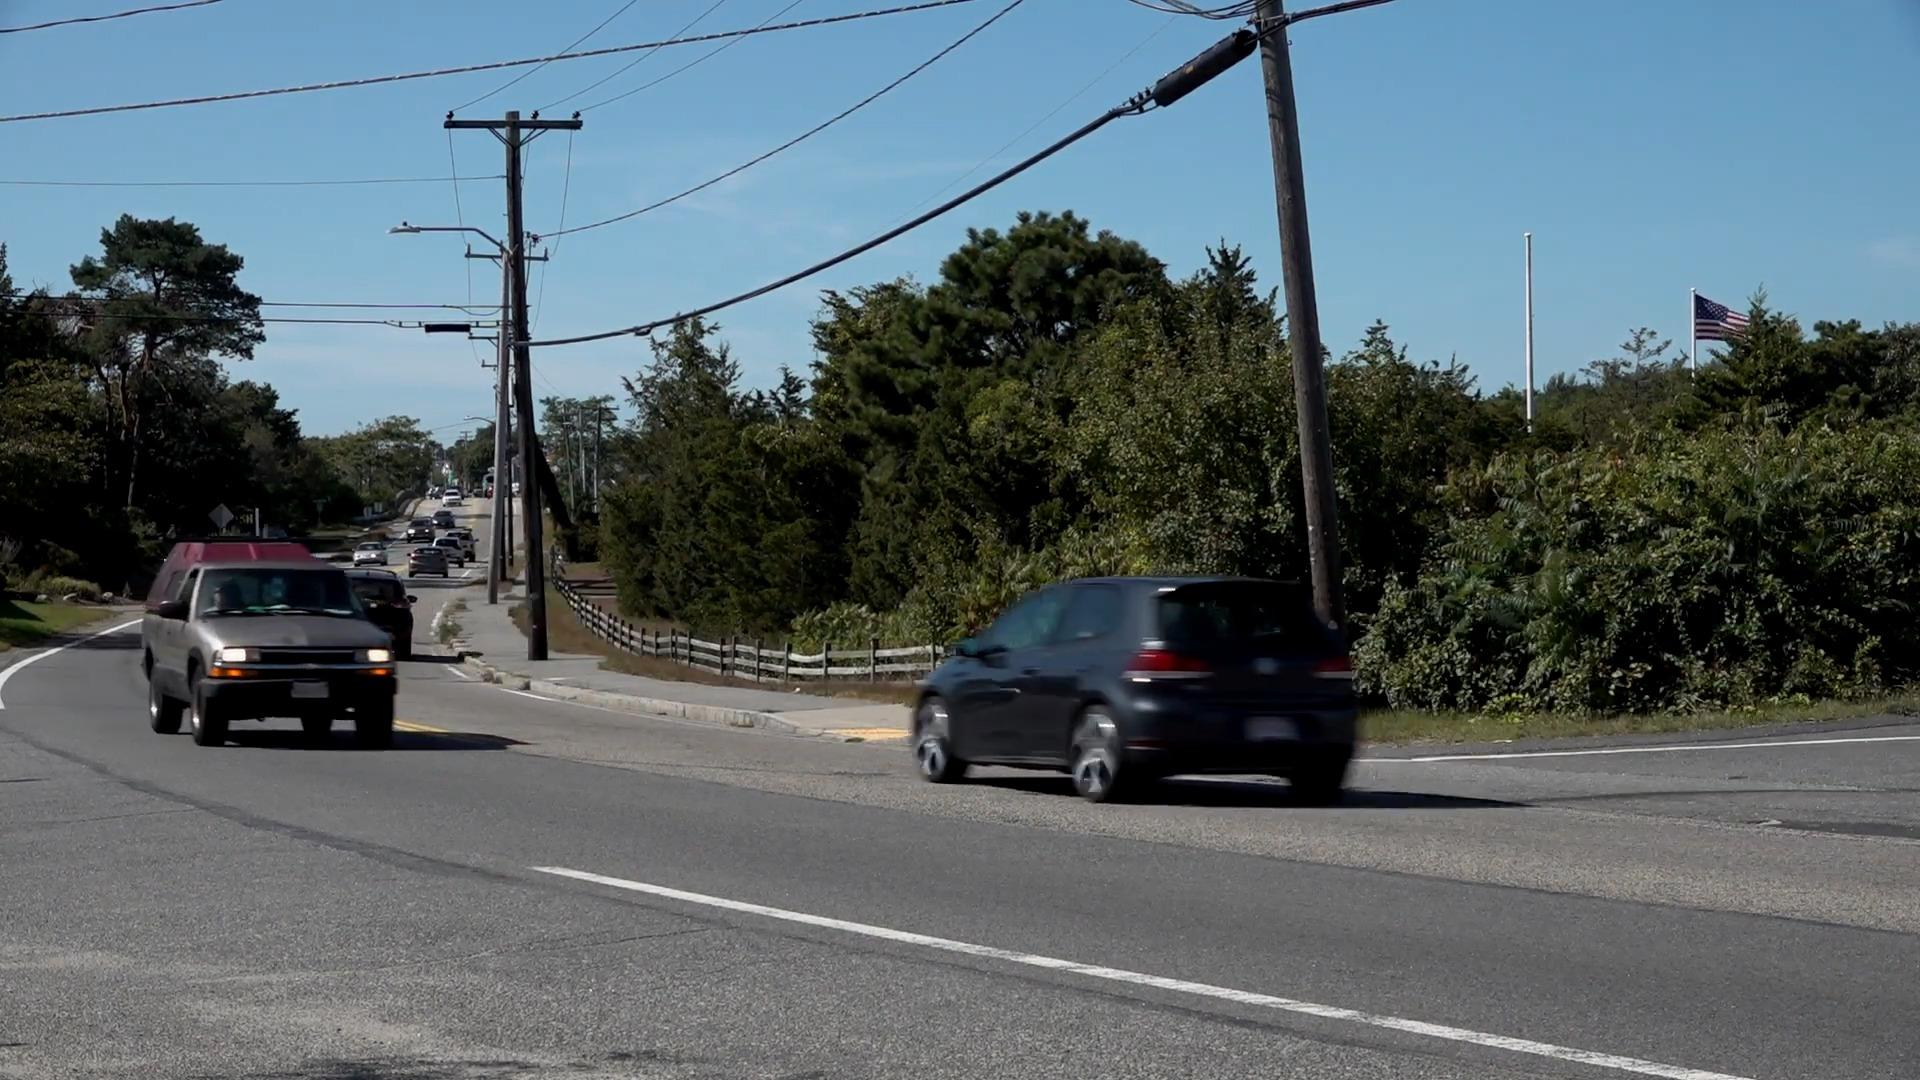minivan: (913, 575, 1363, 805), (143, 543, 395, 747)
